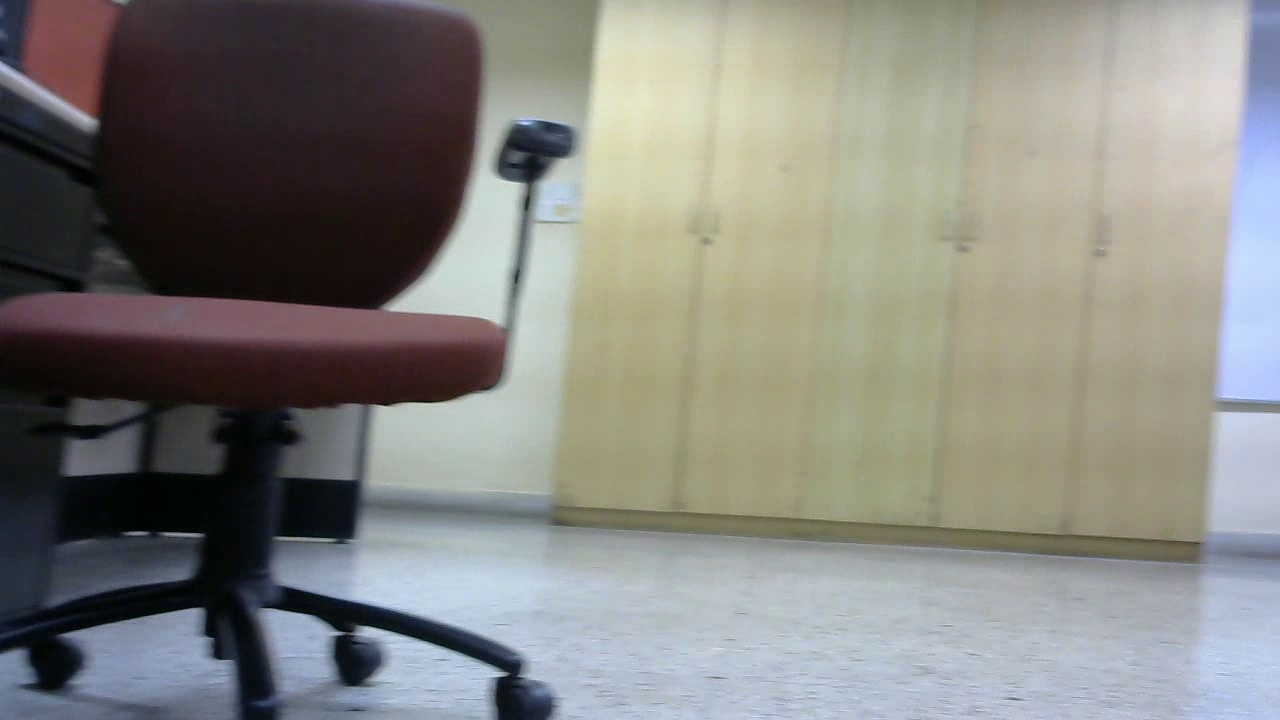chair: (2, 1, 581, 720)
